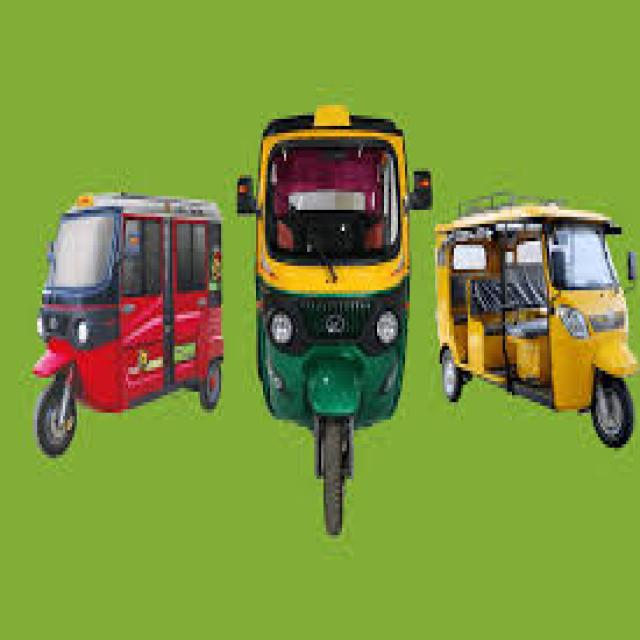tuktuk: (218, 73, 438, 573), (430, 90, 640, 541), (9, 97, 240, 491)
